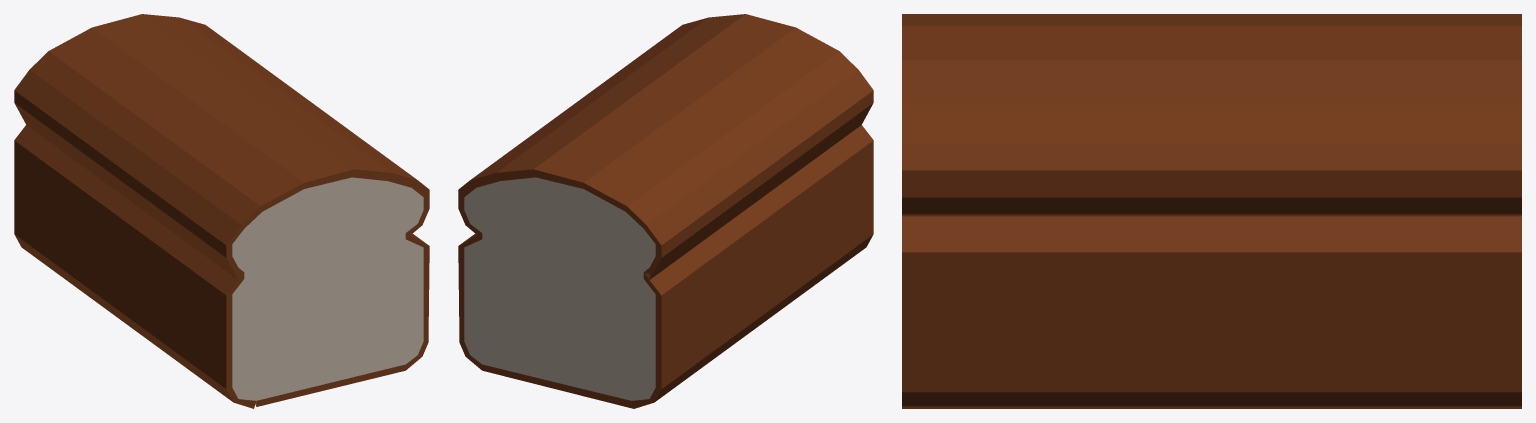
Rendered from milk_bread_loaf.glb.
The picture shows the model from 3 angles, left to right: view 1: azimuth 30°, elevation 25°; view 2: azimuth 150°, elevation 25°; view 3: azimuth 270°, elevation 25°; orthographic projection. The views are drawn at different scales.
Parts seen in each view (by area): view 1: DiffColorBread; view 2: DiffColorBread; view 3: DiffColorBread.
Boxes of the visible parts, x1,y1,x2,y2 form: DiffColorBread: [14, 14, 429, 408]; DiffColorBread: [458, 14, 873, 408]; DiffColorBread: [902, 14, 1521, 408].
Size of the model in its own units: 1.78 by 1.8 by 3.22.
